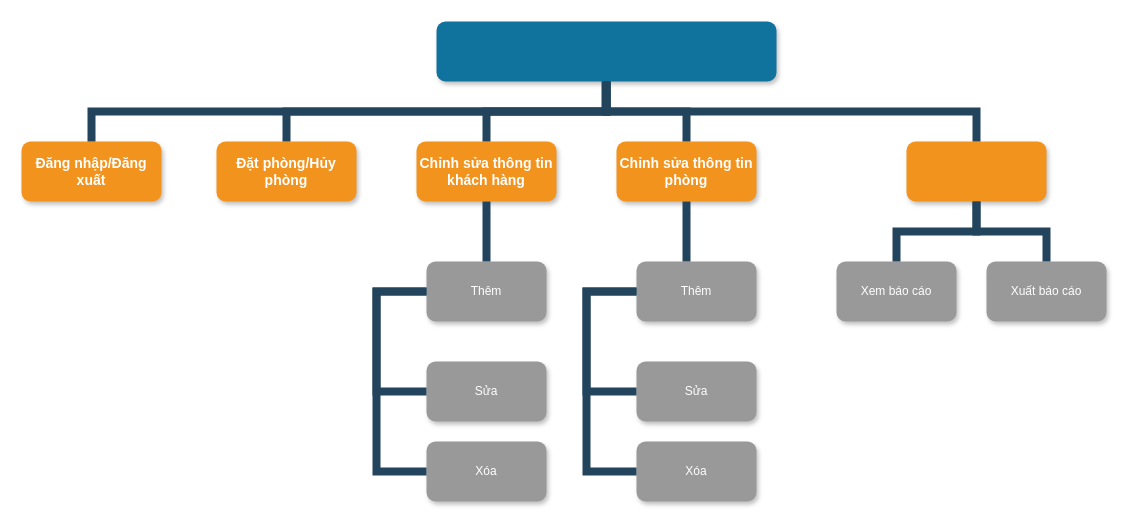
The diagram is 1129 pixels wide and 525 high, and some of its shapes have lost their labels. Each missing label, with the centre of its shape:
Báo cáo: (977,172)
Hệ thống quản lý khách hàng đặt phòng khách sạn: (607,52)
